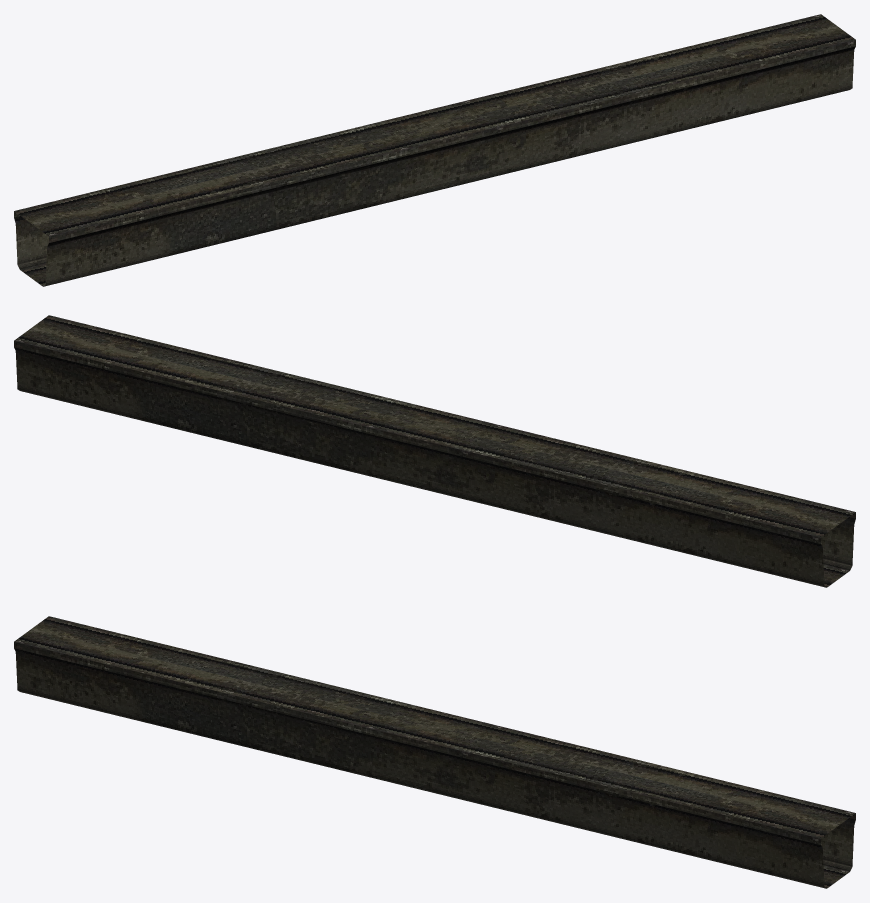
The model's file is beam_hl_1.glb.
The picture shows the model from 3 angles, top to bottom: view 1: azimuth 30°, elevation 25°; view 2: azimuth 150°, elevation 25°; view 3: azimuth 330°, elevation 25°; orthographic projection.
Visible parts, largest first — view 1: beam_hl_1; view 2: beam_hl_1; view 3: beam_hl_1.
Boxes of the visible parts, box(x1,y1,x2,y2) form: beam_hl_1: box(14, 14, 855, 286); beam_hl_1: box(14, 315, 855, 587); beam_hl_1: box(14, 616, 855, 888).
Bounding box in the file's own units: 4 × 0.258 × 0.3.
1 material, 1 textured.
